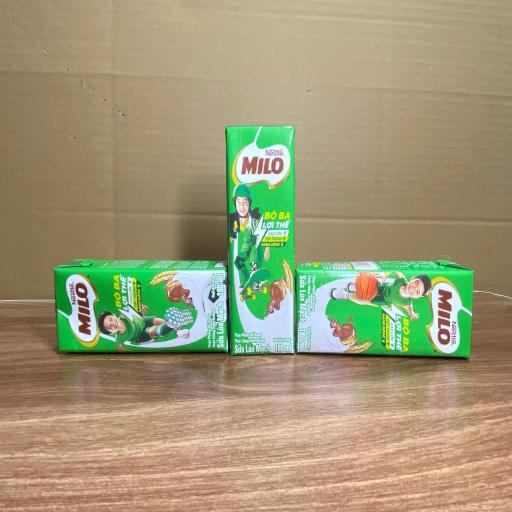milo: (299, 261, 474, 355), (54, 258, 226, 352), (227, 128, 296, 352)
